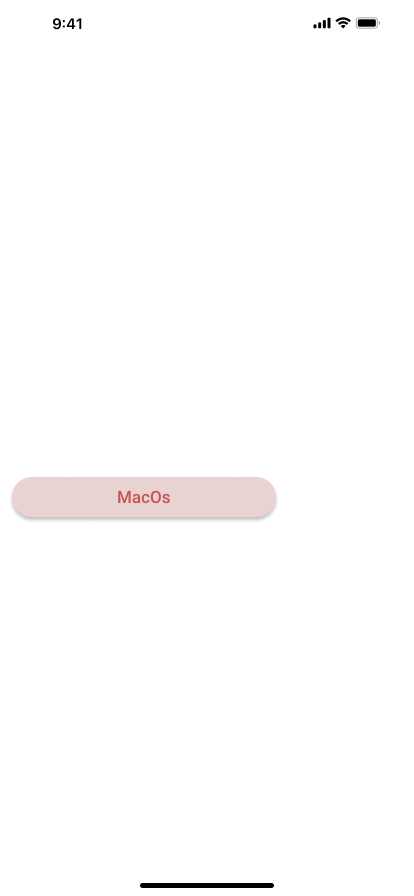Buttons: (8, 476, 284, 524)
Home Indicator: (0, 862, 414, 896)
Status Bar: (0, 0, 414, 44)
